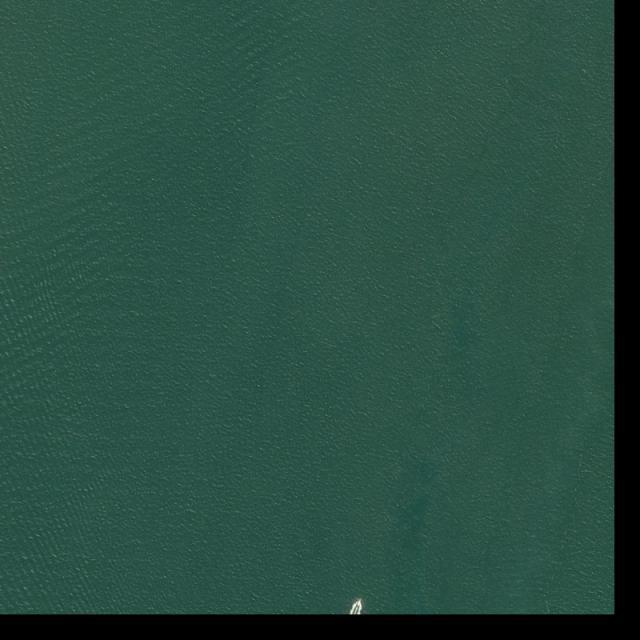ship: (357, 598, 362, 608)
